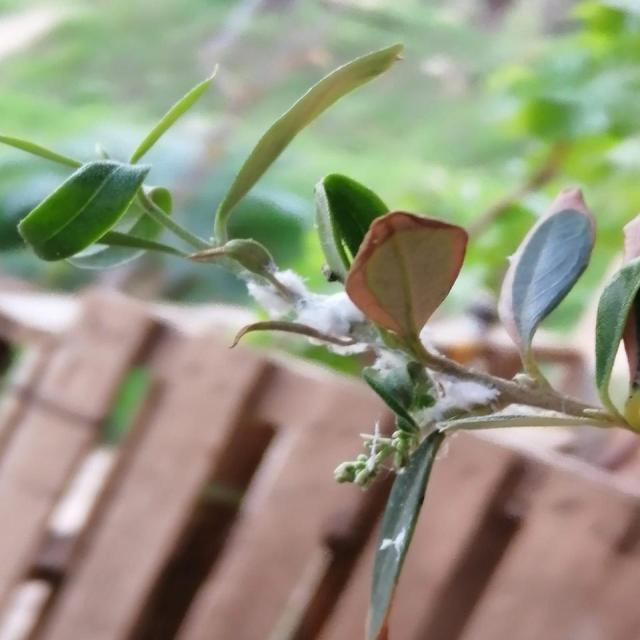Psyllid: (193, 240, 564, 484)
